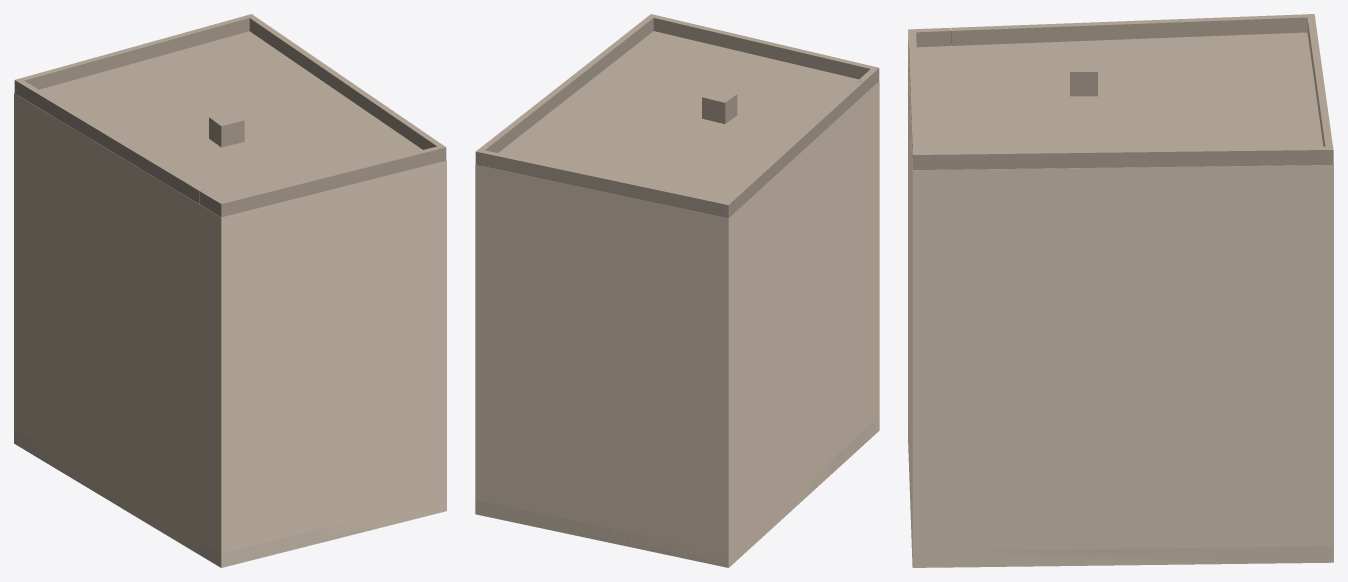
The model's file is cop_predio_historico_02__way_588408932.fbx.
3 views of the same model, side by side, from view 1: azimuth 30°, elevation 25°; view 2: azimuth 150°, elevation 25°; view 3: azimuth 270°, elevation 25° (orthographic). The views are drawn at different scales.
Visible parts, largest first — view 1: cop_predio_historico_02__way_588408932_wall, cop_predio_historico_02__way_588408932_roof, cop_predio_historico_02__way_588408932_stone; view 2: cop_predio_historico_02__way_588408932_wall, cop_predio_historico_02__way_588408932_roof, cop_predio_historico_02__way_588408932_stone; view 3: cop_predio_historico_02__way_588408932_wall, cop_predio_historico_02__way_588408932_roof, cop_predio_historico_02__way_588408932_stone.
Part boxes in pixels (x1,y1,x2,y2): cop_predio_historico_02__way_588408932_wall: [14, 93, 446, 567]; cop_predio_historico_02__way_588408932_roof: [14, 14, 446, 217]; cop_predio_historico_02__way_588408932_stone: [14, 429, 445, 567]; cop_predio_historico_02__way_588408932_wall: [475, 81, 879, 567]; cop_predio_historico_02__way_588408932_roof: [475, 14, 879, 218]; cop_predio_historico_02__way_588408932_stone: [475, 419, 878, 567]; cop_predio_historico_02__way_588408932_wall: [908, 46, 1333, 567]; cop_predio_historico_02__way_588408932_roof: [908, 14, 1333, 170]; cop_predio_historico_02__way_588408932_stone: [908, 427, 1333, 567].
Size of the model in its own units: 1373 by 1912 by 1747.
